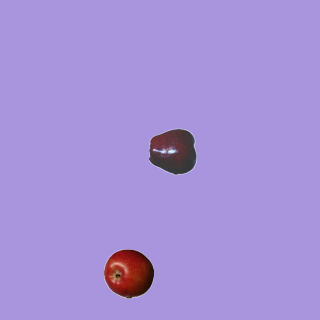Apple Braeburn: (103, 248, 153, 298)
Apple Red Delicious: (148, 126, 198, 176)
